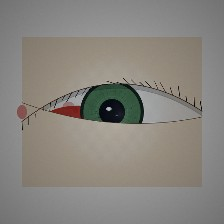hemorrhage_spot: (29, 81, 127, 160)
